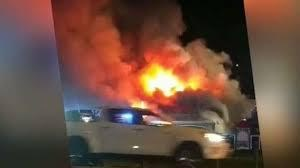fire: (131, 57, 199, 105)
